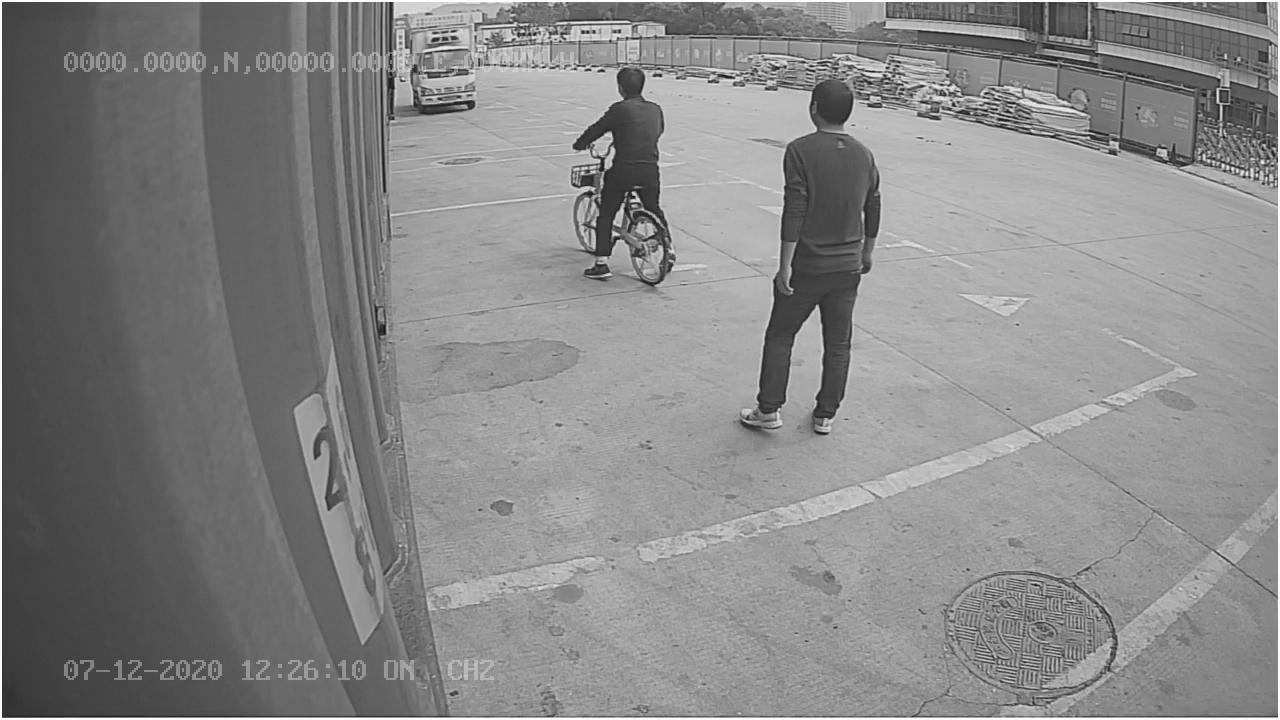person: (731, 75, 890, 441)
